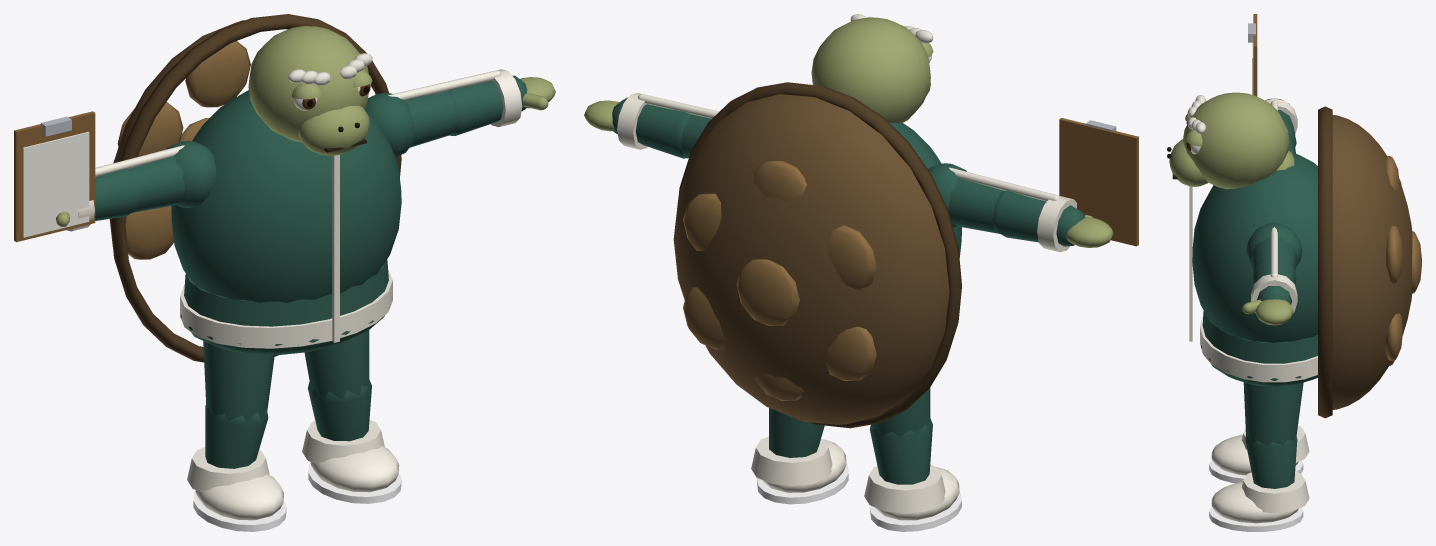
File: coach_veteran.glb
The picture shows the model from 3 angles, left to right: view 1: azimuth 30°, elevation 25°; view 2: azimuth 150°, elevation 25°; view 3: azimuth 270°, elevation 25°; orthographic projection. The views are drawn at different scales.
Visible parts, largest first — view 1: coach_veteran_body, prop_clipboard_mesh; view 2: coach_veteran_body, prop_clipboard_mesh; view 3: coach_veteran_body, prop_clipboard_mesh.
Part boxes in pixels (x1,y1,x2,y2): coach_veteran_body: [56, 14, 555, 531]; prop_clipboard_mesh: [14, 111, 95, 242]; coach_veteran_body: [584, 14, 1113, 531]; prop_clipboard_mesh: [1059, 118, 1138, 246]; coach_veteran_body: [1167, 92, 1421, 531]; prop_clipboard_mesh: [1248, 14, 1257, 96].
Size of the model in its own units: 1.67 by 1.38 by 0.8002.
